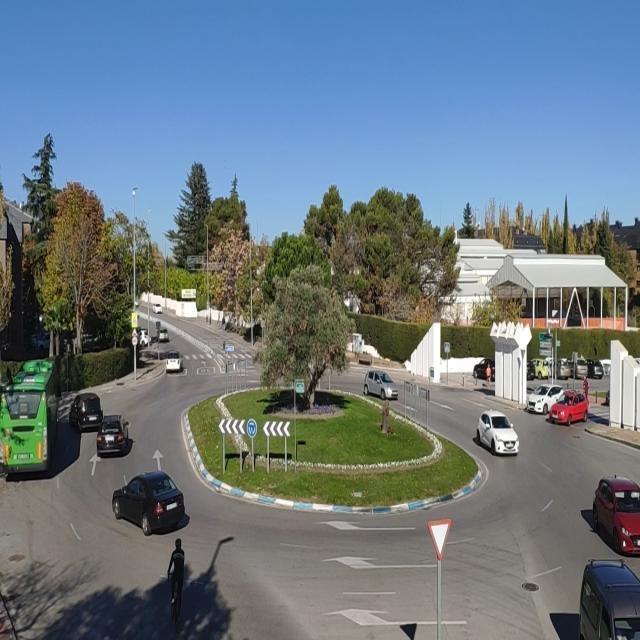Bus: (0, 358, 60, 475)
Car: (577, 558, 640, 640), (113, 470, 188, 536), (592, 476, 640, 557), (476, 410, 520, 456), (549, 390, 590, 426), (95, 414, 129, 456), (69, 393, 102, 431), (526, 384, 566, 414), (363, 370, 399, 400), (544, 357, 573, 379), (562, 357, 588, 379), (527, 358, 552, 380), (473, 358, 496, 380), (584, 359, 605, 379), (30, 331, 50, 352), (165, 352, 183, 372), (137, 328, 150, 346), (526, 361, 535, 380), (158, 328, 170, 342), (152, 303, 162, 314)
